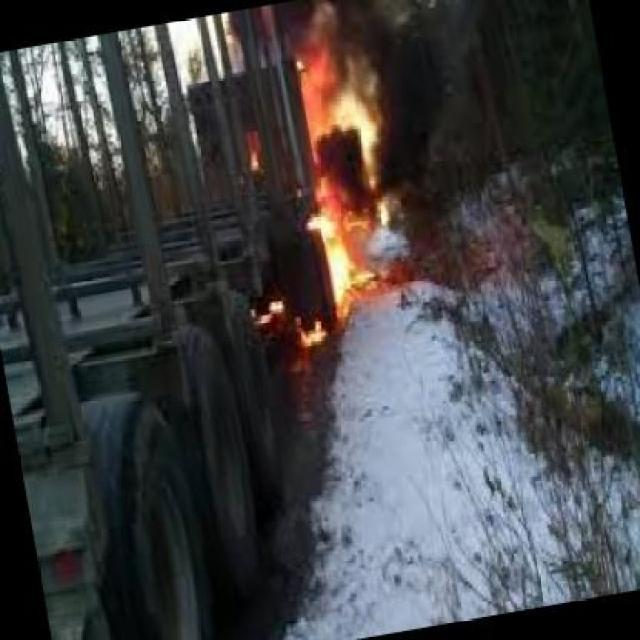Fire: (306, 89, 376, 316), (286, 15, 364, 121)
Smoke: (372, 0, 492, 210)
